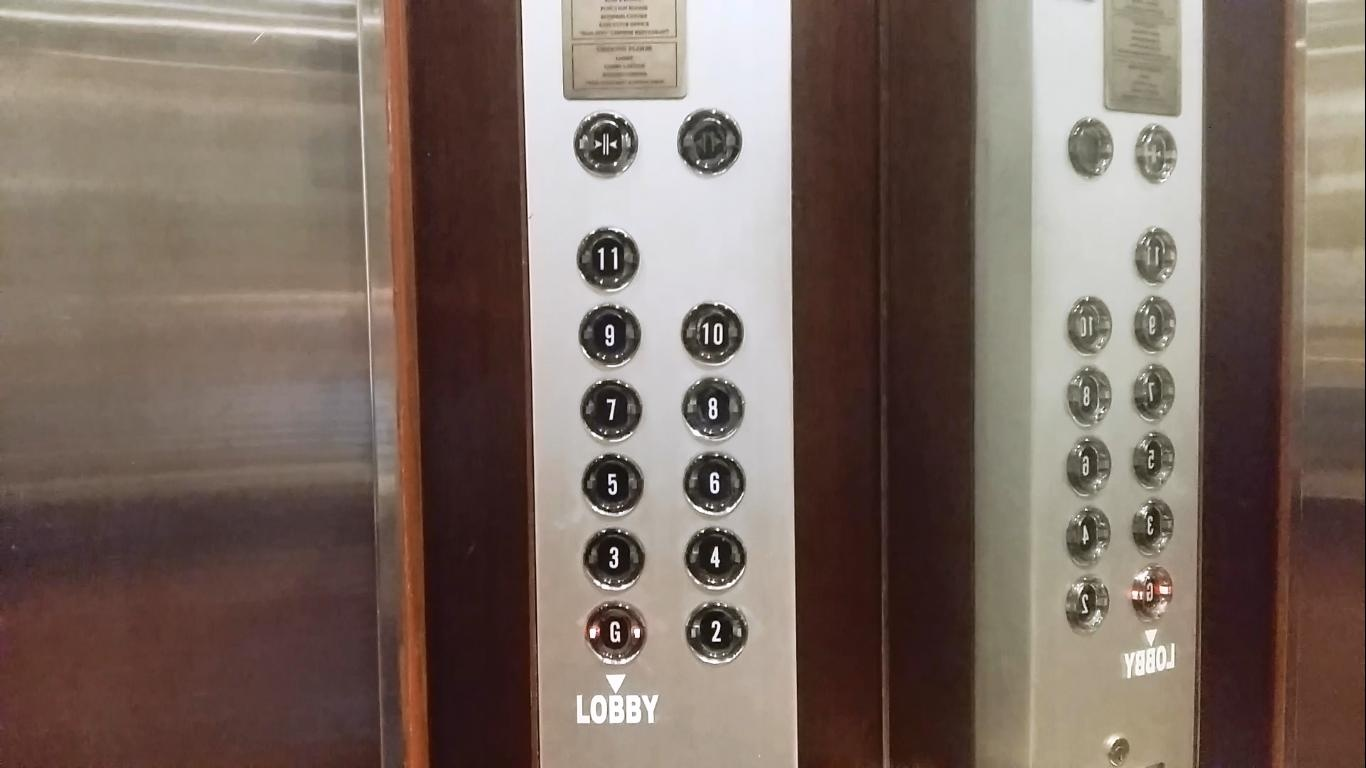10: (678, 297, 746, 369)
11: (573, 225, 642, 296)
2: (683, 599, 751, 669)
3: (580, 524, 648, 595)
4: (682, 523, 750, 595)
5: (579, 450, 648, 520)
6: (681, 450, 748, 520)
7: (577, 375, 645, 446)
8: (679, 375, 748, 445), (1062, 363, 1114, 430)
9: (575, 301, 646, 371)
G: (580, 597, 650, 669)
close: (571, 110, 641, 182), (1129, 120, 1181, 187)
empty: (1066, 114, 1118, 181)
open: (674, 107, 745, 179)
unknown: (1131, 222, 1183, 289), (1131, 290, 1183, 357), (1130, 356, 1182, 423), (1130, 427, 1182, 494), (1129, 495, 1181, 562), (1129, 560, 1181, 627), (1061, 572, 1113, 639), (1061, 503, 1113, 570), (1061, 434, 1113, 501), (1061, 292, 1113, 359)
